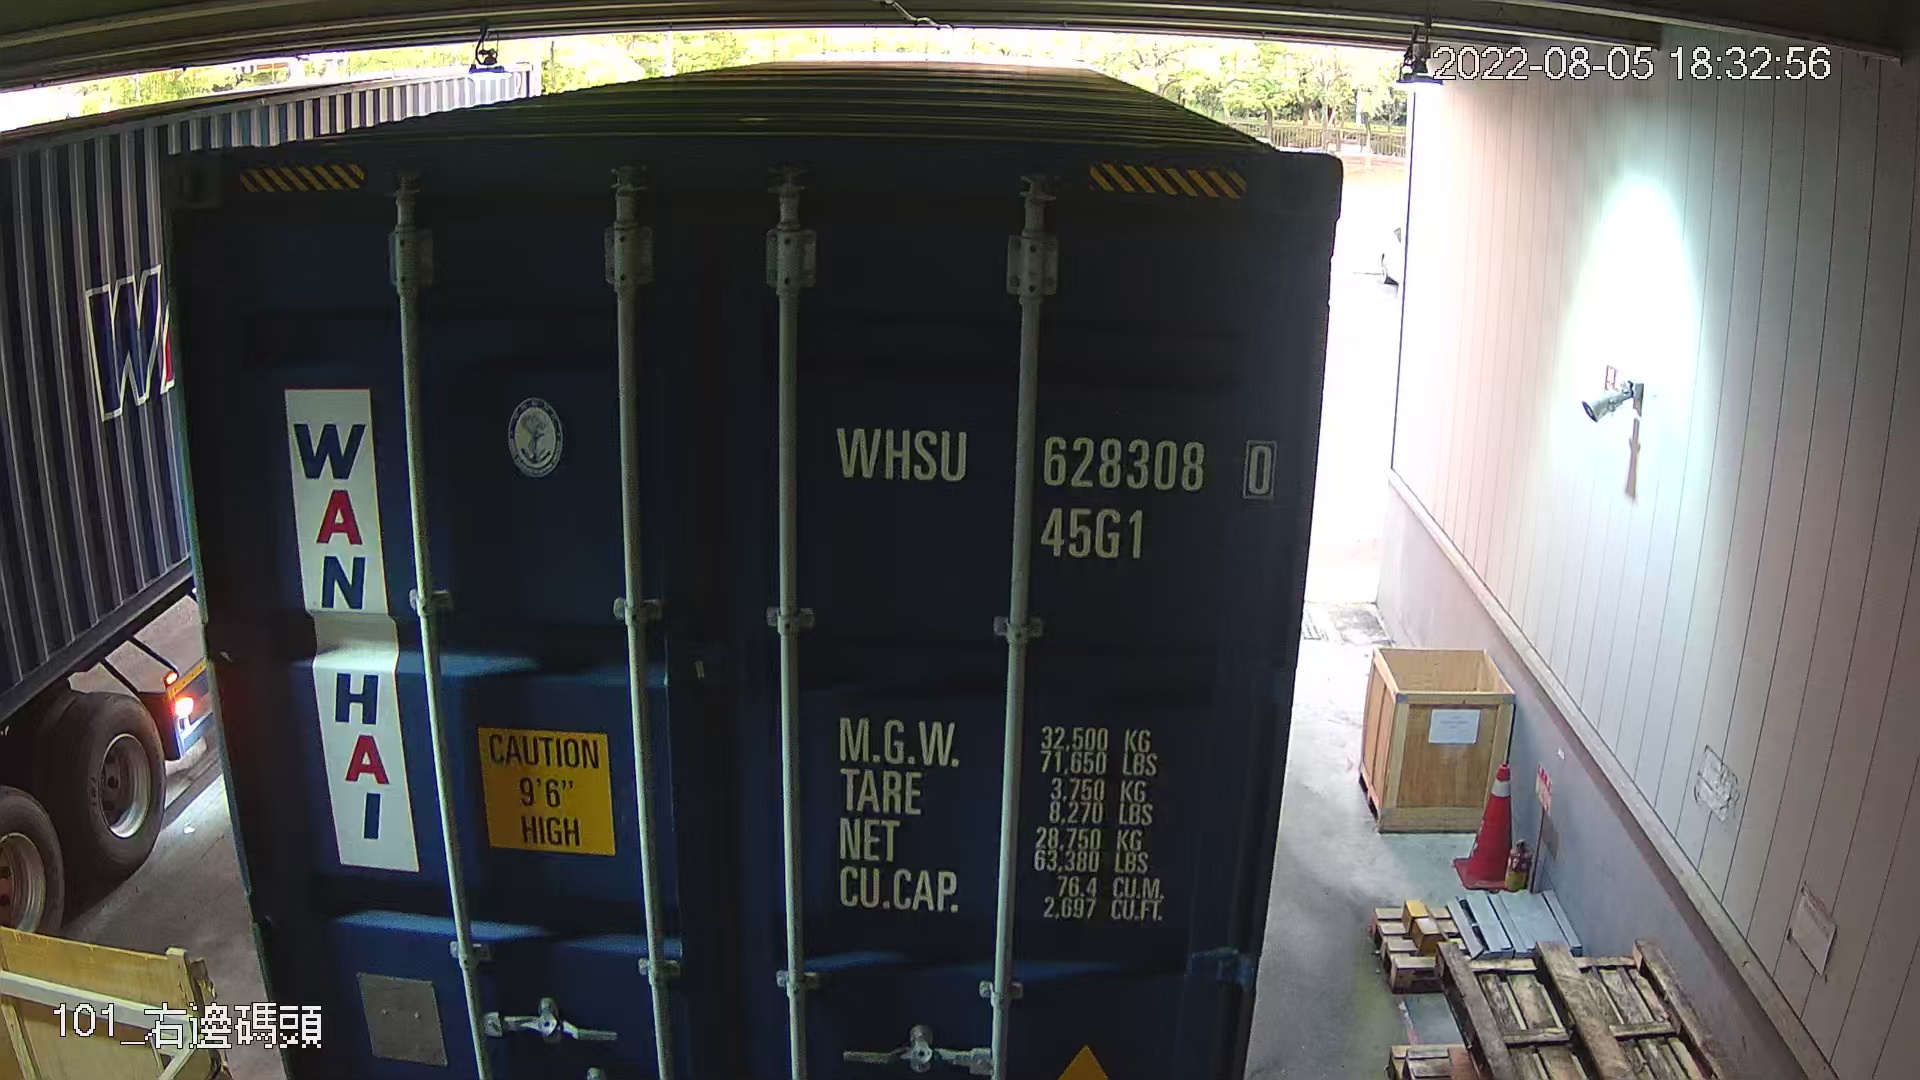container: (819, 398, 1288, 574)
